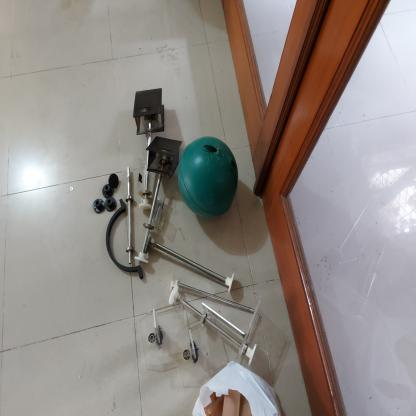green_buoy: (176, 133, 240, 221)
